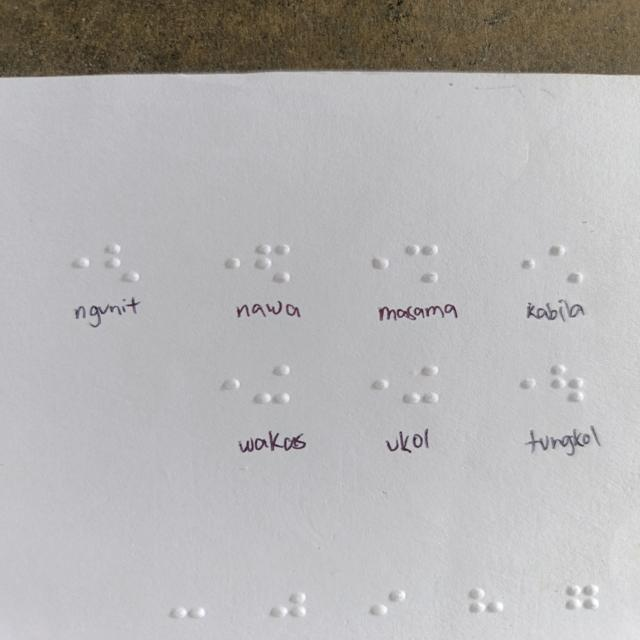dot_5: (206, 244, 240, 284), (208, 366, 242, 405), (502, 366, 536, 405), (57, 243, 90, 283), (503, 244, 536, 284), (355, 245, 388, 284), (358, 366, 391, 405)
two_cell_non_alphabet_kabila: (550, 245, 583, 284)
two_cell_non_alphabet_masama: (404, 244, 438, 284)
two_cell_non_alphabet_nawa: (256, 244, 289, 284)
two_cell_non_alphabet_ngunit: (106, 243, 140, 283)
two_cell_non_alphabet_tungkol: (550, 364, 584, 403)
two_cell_non_alphabet_ukol: (404, 364, 438, 404)
two_cell_non_alphabet_wakas: (256, 366, 289, 405)
